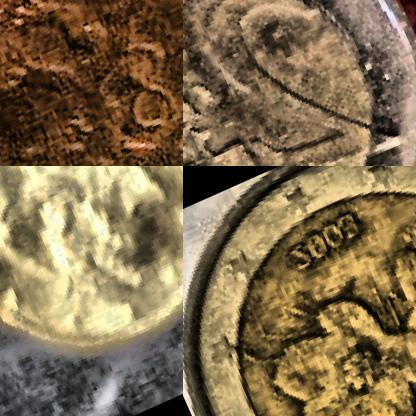coin: (183, 166, 415, 415), (0, 166, 182, 404), (183, 0, 415, 165), (0, 0, 182, 165)
